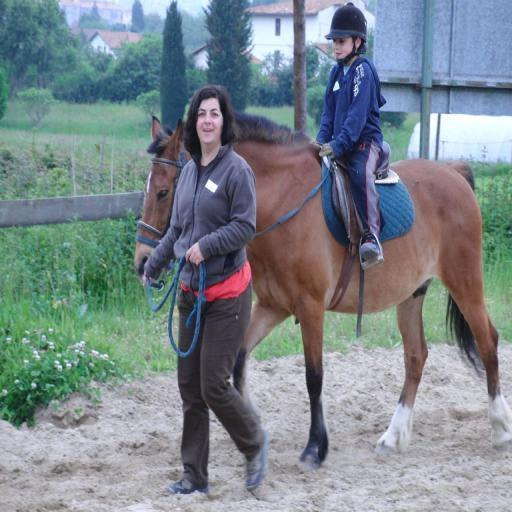horse: (133, 116, 512, 474)
